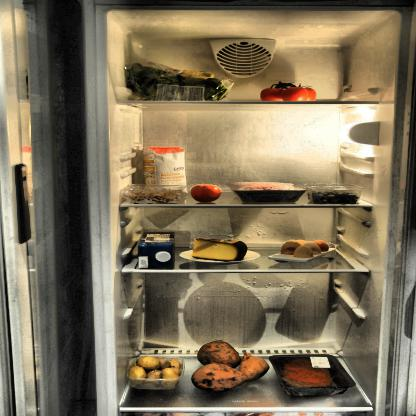beef: (276, 354, 352, 391)
blueberries: (309, 184, 359, 205)
cheese: (190, 236, 247, 261)
eggs: (279, 237, 337, 260)
milk: (138, 232, 176, 271)
potato: (127, 354, 182, 390)
shrimp: (123, 185, 187, 208)
spinach: (126, 62, 237, 102)
sweet_potato: (188, 338, 270, 390)
tomato: (261, 82, 319, 104), (192, 184, 223, 204)
